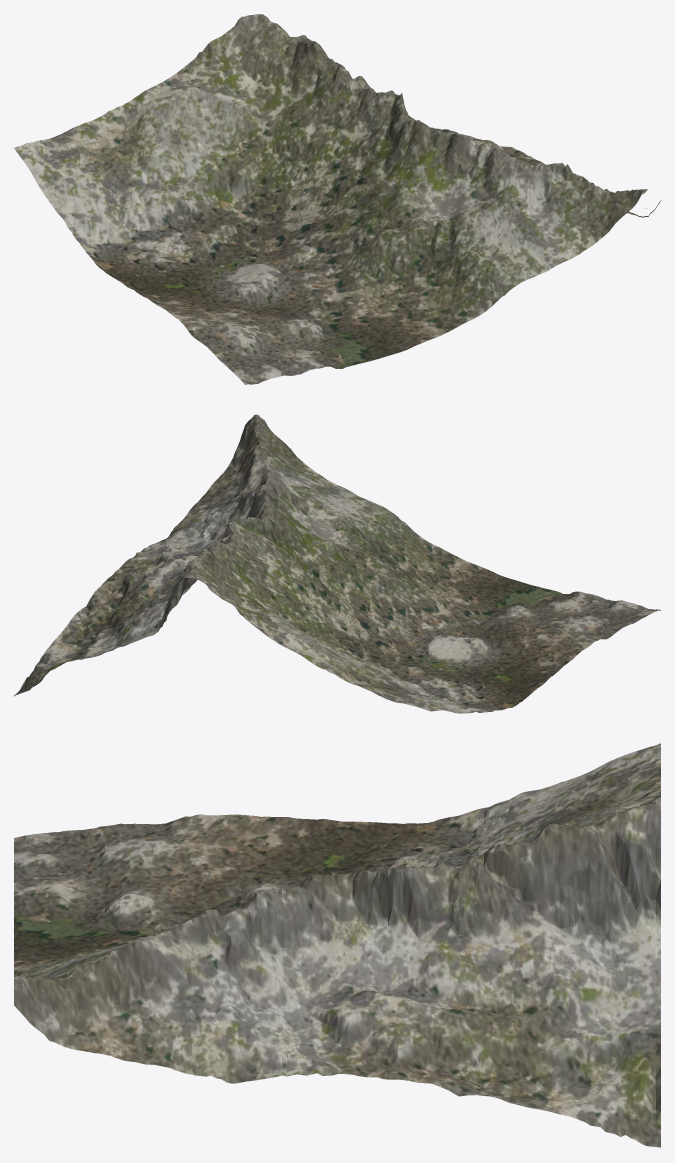
The picture shows the model from 3 angles, top to bottom: view 1: azimuth 30°, elevation 25°; view 2: azimuth 150°, elevation 25°; view 3: azimuth 270°, elevation 25°; orthographic projection. The views are drawn at different scales.
Bounding box in the file's own units: 500 × 187 × 481.
Materials: 1 (1 with a texture image).
